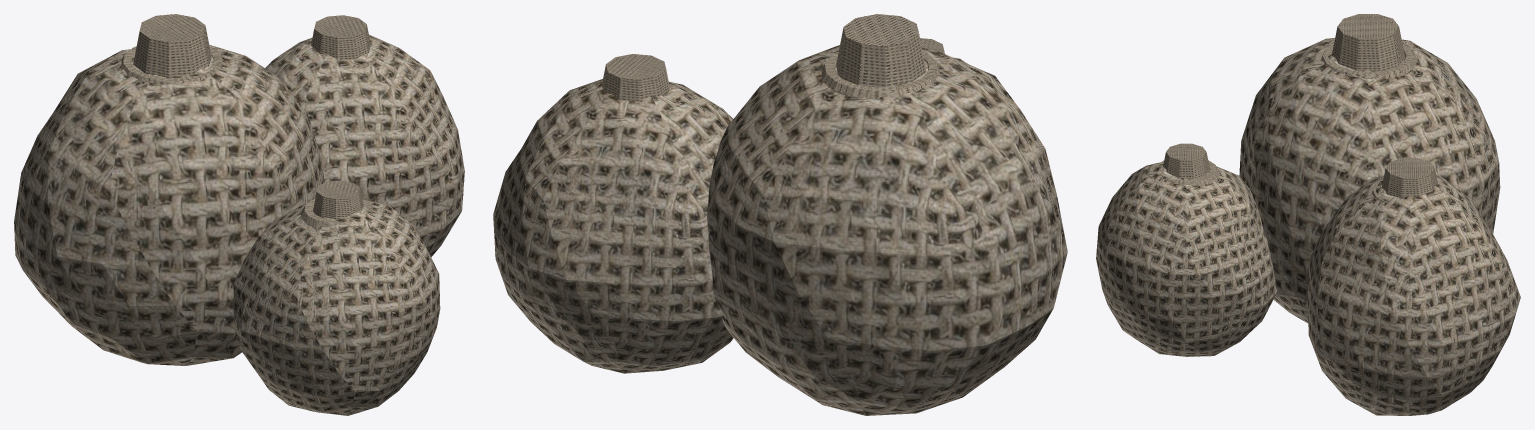
Rendered from sacks-v01.glb.
3 renders of one model, left to right at view 1: azimuth 30°, elevation 25°; view 2: azimuth 150°, elevation 25°; view 3: azimuth 270°, elevation 25°, orthographic. The views are drawn at different scales.
Visible parts, largest first — view 1: sacks; view 2: sacks; view 3: sacks.
Boxes of the visible parts, box(x1,y1,x2,y2) form: sacks: box(14, 14, 464, 415); sacks: box(493, 14, 1067, 415); sacks: box(1096, 14, 1520, 415).
Bounding box in the file's own units: 1.68 × 1.11 × 1.52.
Materials: 2 (2 with a texture image).
